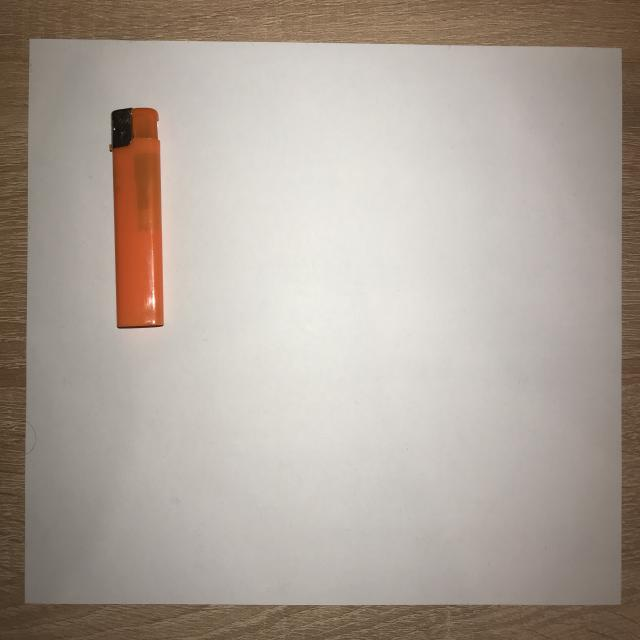lighter: (102, 101, 172, 338)
